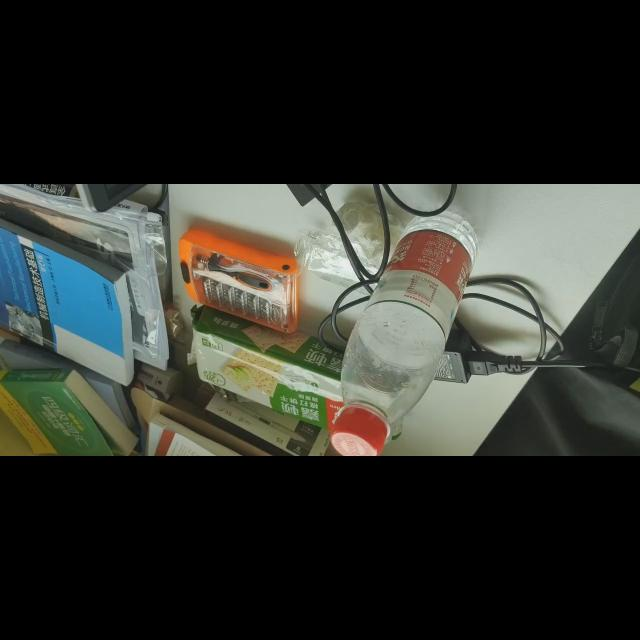trash: (329, 208, 478, 456)
